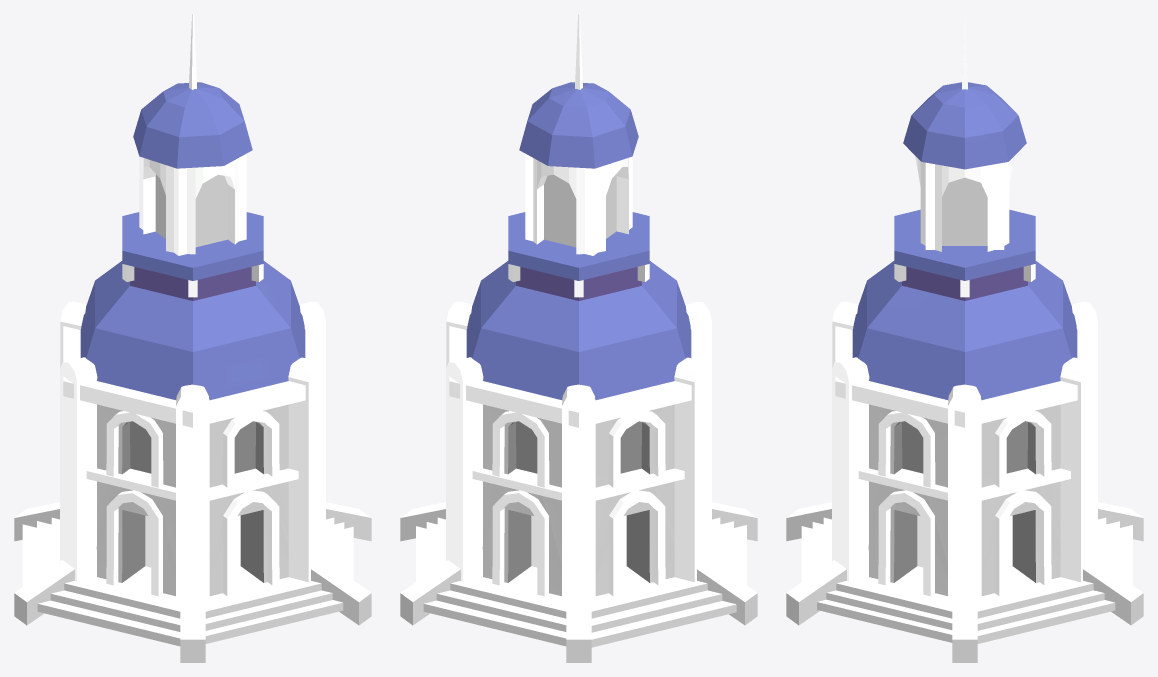
Rendered from temple.005.glb.
3 views of the same model, side by side, from view 1: azimuth 30°, elevation 25°; view 2: azimuth 150°, elevation 25°; view 3: azimuth 270°, elevation 25° (orthographic).
Parts seen in each view (by area): view 1: temple.005(Clone); view 2: temple.005(Clone); view 3: temple.005(Clone).
Part boxes in pixels (x1,y1,x2,y2): temple.005(Clone): (14, 14, 371, 662); temple.005(Clone): (400, 14, 757, 662); temple.005(Clone): (786, 14, 1143, 662).
Bounding box in the file's own units: 11.95 × 18.7 × 10.73.
1 material, 1 textured.
